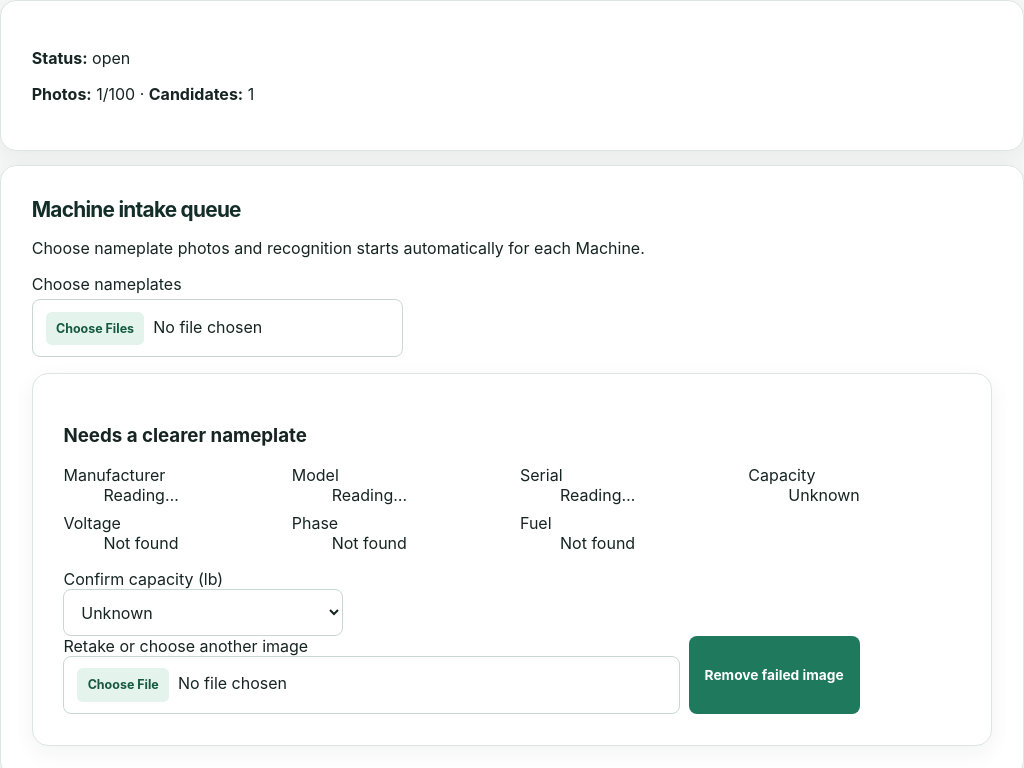
Test case: Intake review UI › removes failed evidence through exclusion without exposing removal on ready items
The width and height of the screenshot is (1024, 768).
expect the heading "Needs a clearer nameplate" is shown: met, box [63,424,307,447]
Click the button "Remove failed image" at [774, 675], box [688,636,860,714]
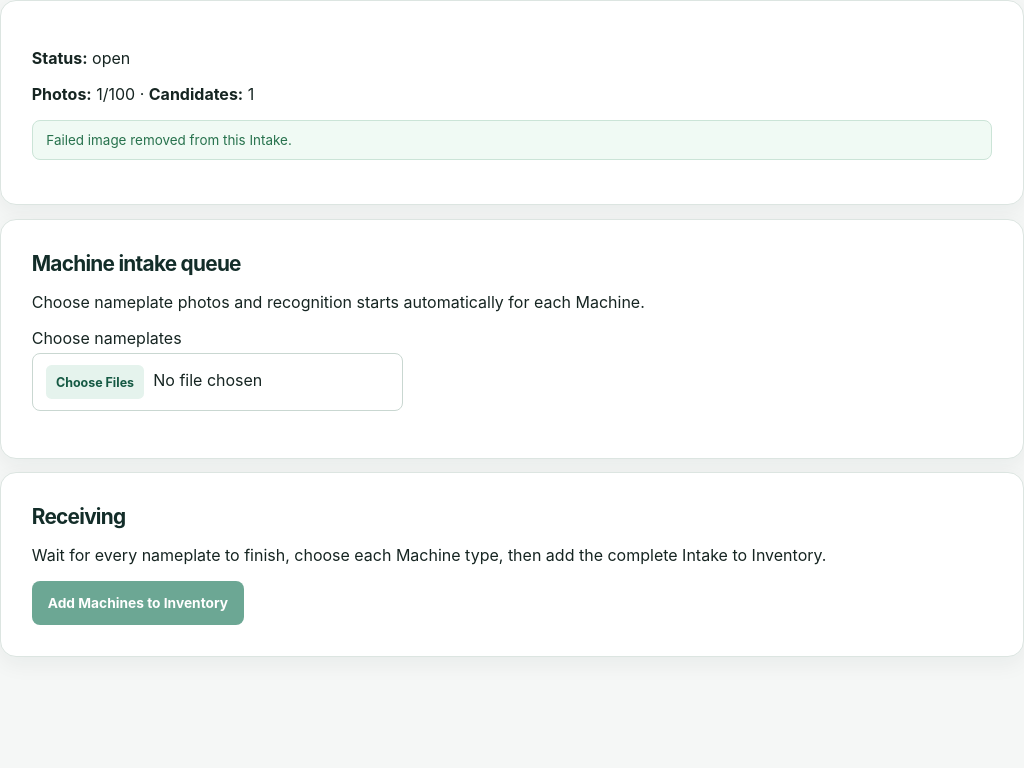
expect the button "Add Machines to Inventory" is disabled: met, box [32,581,244,625]
expect the text "Failed image removed from this Intake." is shown: met, box [32,120,992,160]
expect the button "Remove failed image" is gone: met
